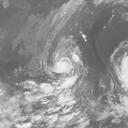cyclone: (50, 57, 75, 77), (118, 55, 127, 94)
